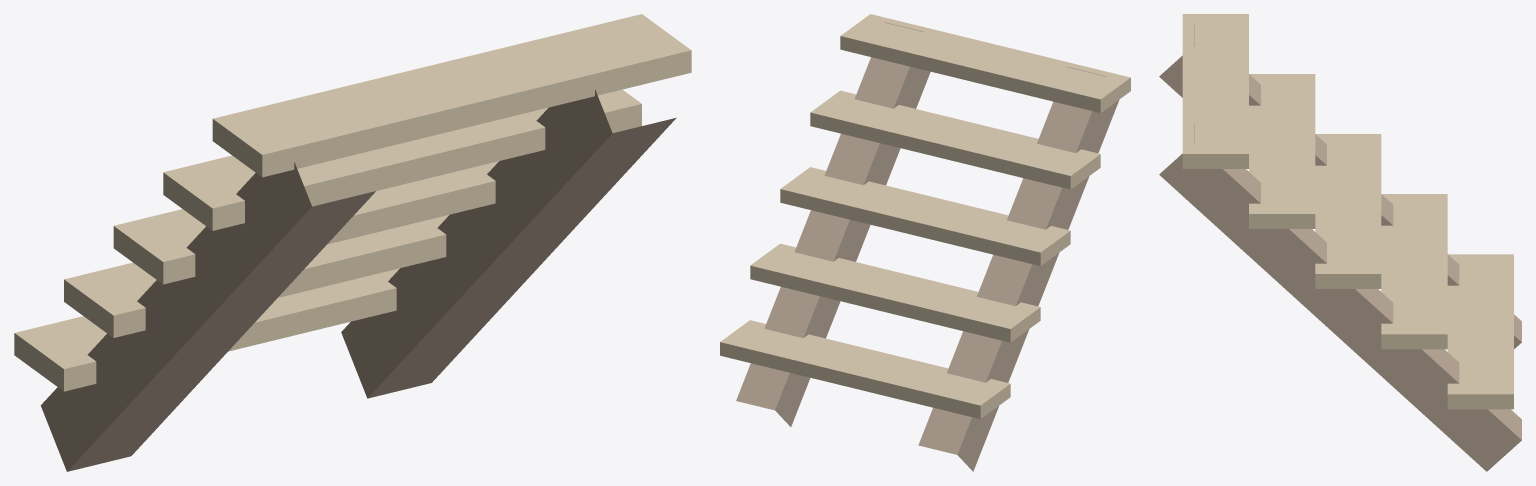
Rendered from Beach_Prop_Docks_Steps.glb.
3 views of the same model, side by side, from view 1: azimuth 30°, elevation 25°; view 2: azimuth 150°, elevation 25°; view 3: azimuth 270°, elevation 25° (orthographic). The views are drawn at different scales.
Visible parts, largest first — view 1: Beach_Prop_Docks_Steps; view 2: Beach_Prop_Docks_Steps; view 3: Beach_Prop_Docks_Steps.
Part boxes in pixels (x1,y1,x2,y2): Beach_Prop_Docks_Steps: [14, 14, 691, 471]; Beach_Prop_Docks_Steps: [720, 14, 1130, 471]; Beach_Prop_Docks_Steps: [1159, 14, 1521, 471].
Size of the model in its own units: 1 by 1.1 by 1.1.
